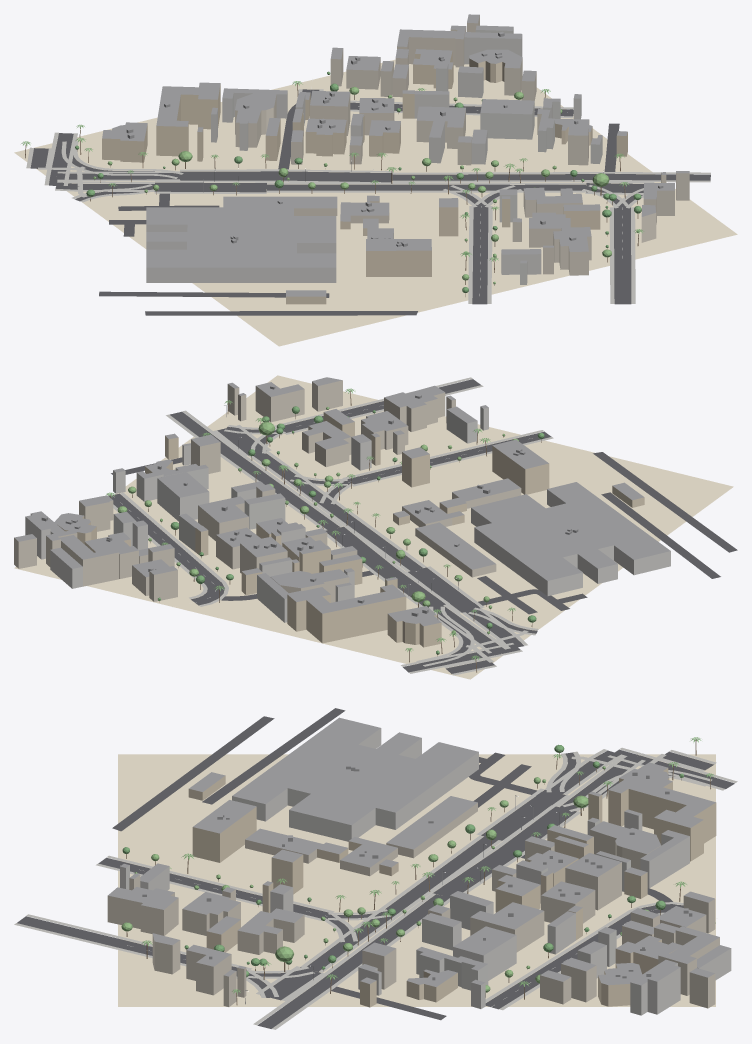
The model's file is tile_-4_-5.glb.
3 renders of one model, top to bottom at view 1: azimuth 30°, elevation 25°; view 2: azimuth 150°, elevation 25°; view 3: azimuth 270°, elevation 25°, orthographic. The views are drawn at different scales.
Parts seen in each view (by area): view 1: nature_ground, buildings_roof, roads_asphalt, buildings_concrete_light, buildings_concrete_warm, buildings_sandstone, roads_sidewalk, nature_foliage_b, nature_foliage_a, nature_palm_leaf, nature_trunk; view 2: nature_ground, buildings_roof, roads_asphalt, buildings_concrete_warm, buildings_concrete_light, buildings_sandstone, roads_sidewalk, nature_foliage_b, nature_foliage_a, nature_palm_leaf, nature_trunk; view 3: nature_ground, buildings_roof, roads_asphalt, buildings_concrete_warm, buildings_concrete_light, buildings_sandstone, roads_sidewalk, nature_foliage_b, nature_foliage_a, nature_palm_leaf, nature_trunk.
Boxes of the visible parts, box(x1,y1,x2,y2) form: nature_ground: box(14, 59, 737, 346); buildings_roof: box(102, 14, 689, 296); roads_asphalt: box(30, 89, 710, 315); buildings_concrete_light: box(146, 27, 602, 284); buildings_concrete_warm: box(235, 15, 689, 275); buildings_sandstone: box(102, 51, 627, 304); roads_sidewalk: box(26, 89, 710, 303); nature_foliage_b: box(93, 86, 638, 284); nature_foliage_a: box(75, 71, 641, 292); nature_palm_leaf: box(21, 81, 644, 261); nature_trunk: box(25, 83, 638, 296); nature_ground: box(14, 375, 733, 679); buildings_roof: box(14, 377, 670, 626); roads_asphalt: box(109, 379, 737, 673); buildings_concrete_warm: box(14, 380, 521, 602); buildings_concrete_light: box(25, 406, 670, 622); buildings_sandstone: box(58, 412, 644, 647); roads_sidewalk: box(113, 377, 553, 675); nature_foliage_b: box(117, 407, 518, 634); nature_foliage_a: box(158, 406, 544, 654); nature_palm_leaf: box(105, 388, 515, 660); nature_trunk: box(110, 391, 541, 672); nature_ground: box(118, 754, 715, 1006); buildings_roof: box(108, 717, 730, 986); roads_asphalt: box(17, 708, 734, 1028); buildings_concrete_warm: box(107, 803, 719, 1008); buildings_concrete_light: box(120, 728, 731, 1015); buildings_sandstone: box(188, 768, 716, 1007); roads_sidewalk: box(14, 747, 737, 1029); nature_foliage_b: box(121, 766, 649, 992); nature_foliage_a: box(122, 744, 715, 977); nature_palm_leaf: box(141, 737, 714, 993); nature_trunk: box(126, 739, 710, 1005).
Bounding box in the file's own units: 319 × 16.89 × 303.
